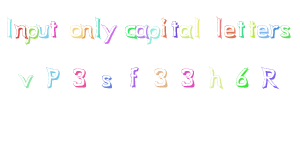3: (72, 67, 87, 88), (153, 67, 168, 88), (180, 67, 195, 87)
6: (234, 66, 249, 88)
I: (5, 16, 18, 39)
P: (45, 66, 61, 88)
R: (261, 66, 279, 89)
a: (134, 23, 149, 39), (179, 24, 194, 39)
c: (124, 23, 137, 38)
e: (223, 23, 236, 38), (256, 23, 269, 38)
f: (128, 66, 140, 88)
h: (209, 66, 223, 89)
i: (159, 17, 168, 37)
l: (214, 15, 223, 38), (94, 16, 102, 39), (194, 17, 201, 38)
n: (13, 23, 27, 39), (81, 23, 94, 39)
o: (69, 24, 83, 38)
p: (24, 23, 40, 45), (147, 24, 161, 44)
r: (270, 23, 280, 39)
s: (280, 24, 291, 39), (101, 74, 112, 89)
t: (48, 18, 58, 38), (236, 19, 246, 38), (170, 20, 179, 38), (248, 19, 256, 38)
u: (36, 23, 48, 38)
v: (18, 73, 35, 88)
y: (102, 24, 118, 44)
